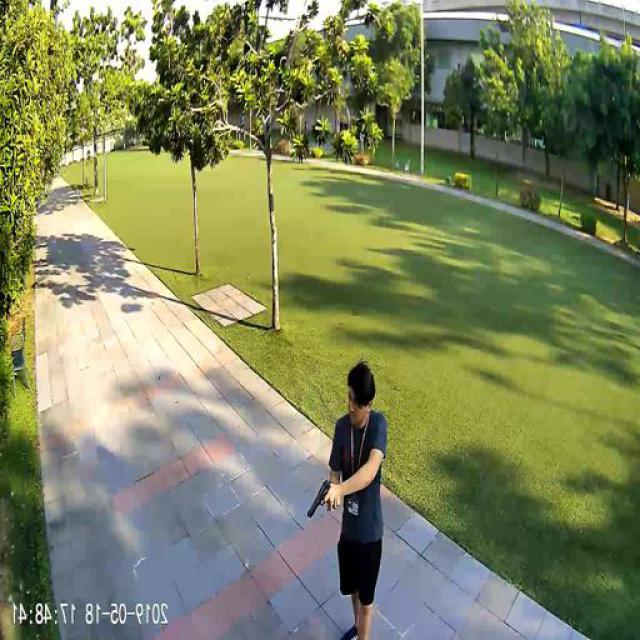Gun: (308, 476, 332, 519)
